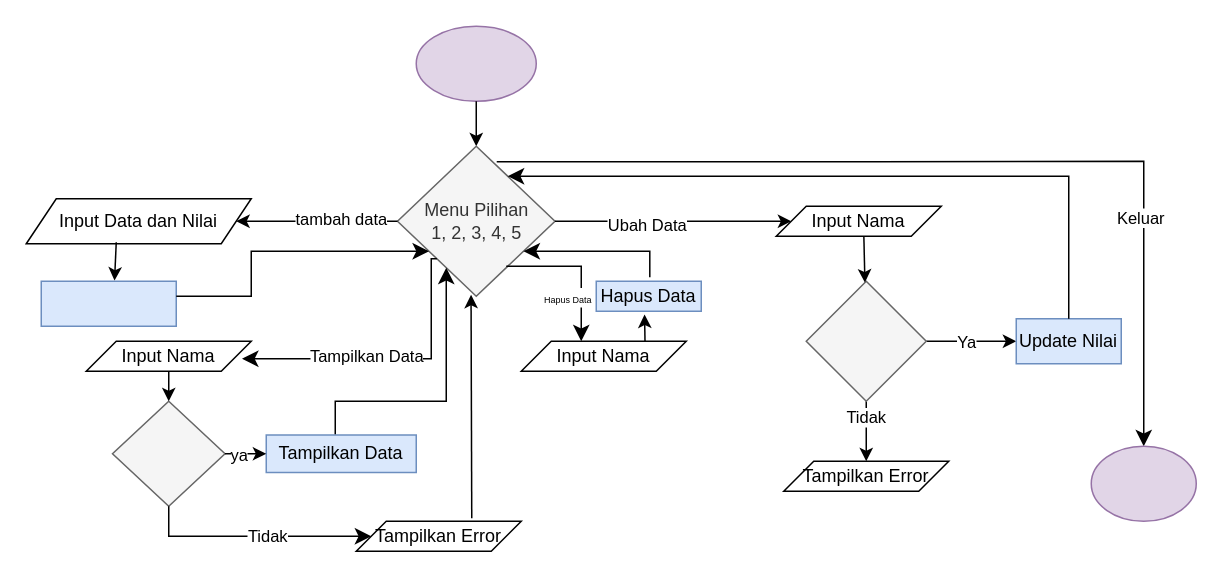
Some shapes in this 1223 by 578 pixel diagram are drawn without their labels. Each missing label, with the centre of its shape:
"Data ada?" goes at (x=168, y=453).
"END" goes at (x=1143, y=483).
"Nama Ada?" goes at (x=865, y=340).
"Simpan Data" goes at (x=108, y=303).
"START" goes at (x=475, y=63).
